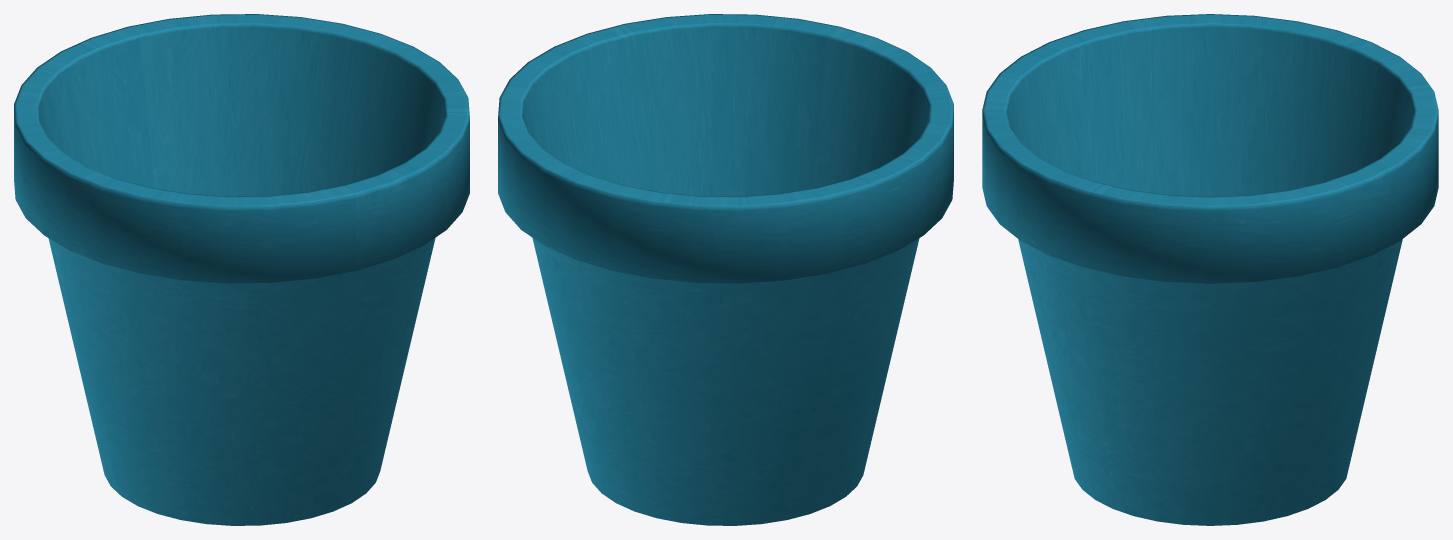
Rendered from maceta.glb.
The picture shows the model from 3 angles, left to right: view 1: azimuth 30°, elevation 25°; view 2: azimuth 150°, elevation 25°; view 3: azimuth 270°, elevation 25°; orthographic projection.
Visible parts, largest first — view 1: Flowerpot; view 2: Flowerpot; view 3: Flowerpot.
Boxes of the visible parts, left/top/right/bottom form: Flowerpot: left=14, top=14, right=469, bottom=525; Flowerpot: left=498, top=14, right=953, bottom=525; Flowerpot: left=982, top=14, right=1438, bottom=525.
Size of the model in its own units: 4.61 by 3.98 by 4.61.
Materials: 1 (1 with a texture image).
